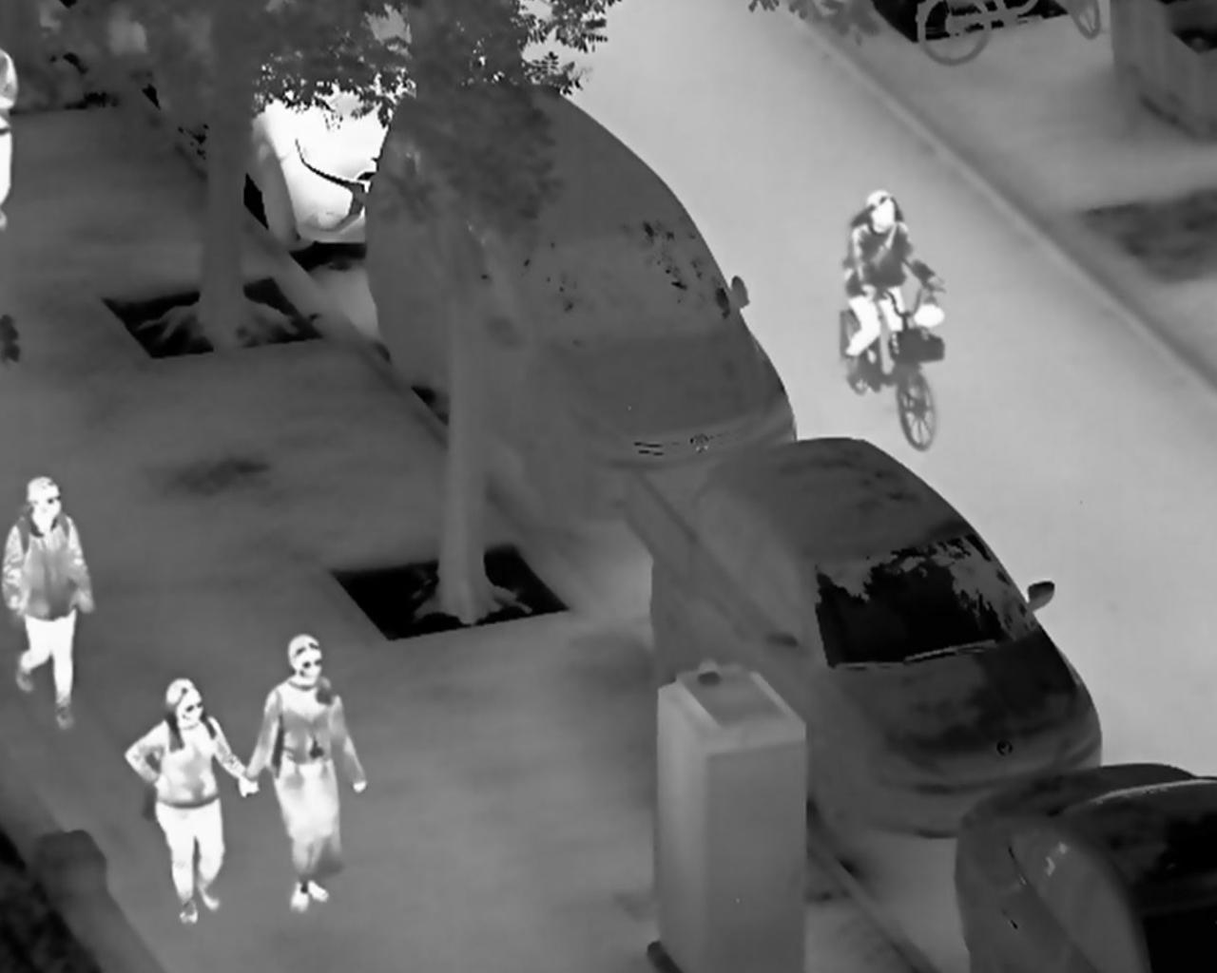person: (243, 633, 368, 911), (123, 675, 249, 928), (843, 185, 945, 368)
